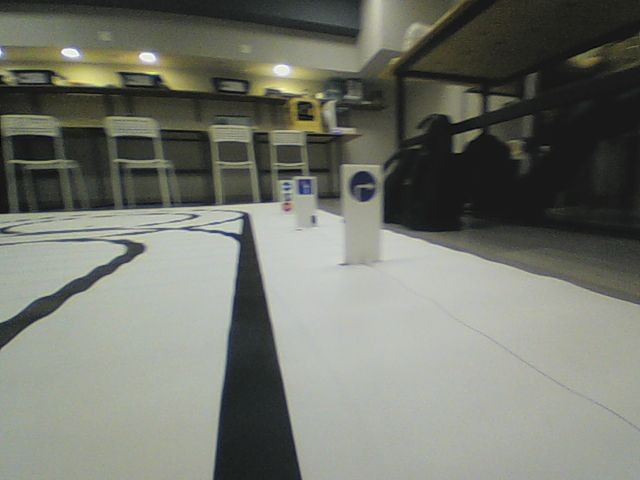Right: (347, 169, 377, 203)
